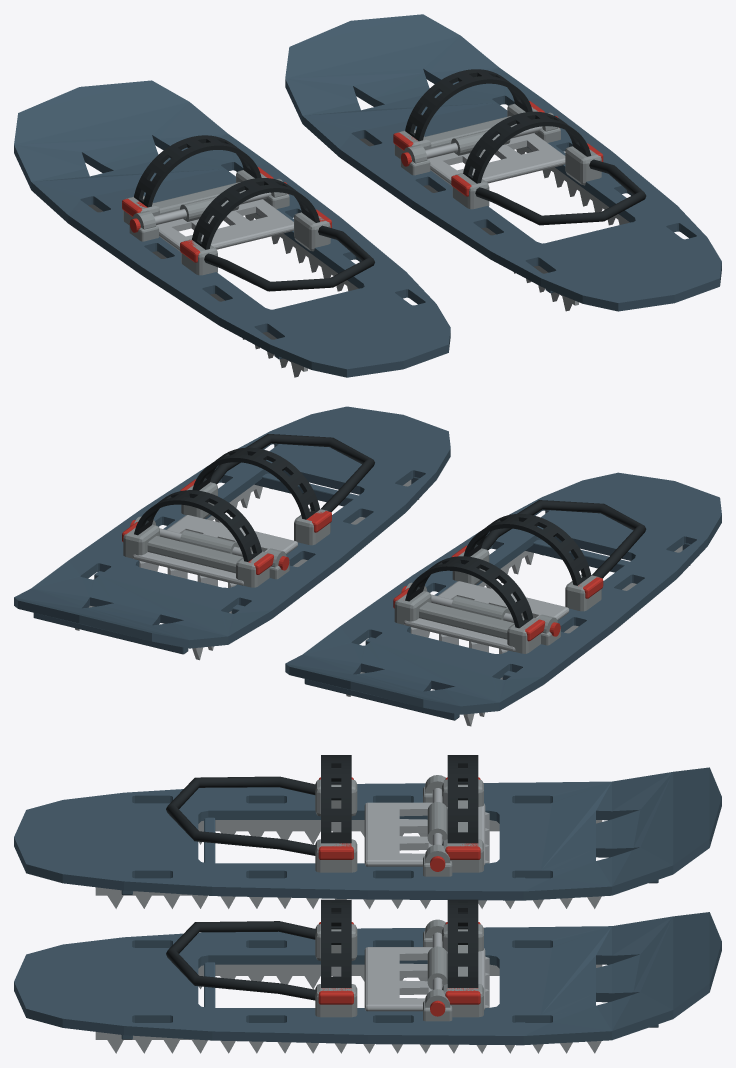
File: A-NEW-20261026-SNOWSHOE-PAIR-001_LOD1_R5.glb
The picture shows the model from 3 angles, top to bottom: view 1: azimuth 30°, elevation 25°; view 2: azimuth 150°, elevation 25°; view 3: azimuth 270°, elevation 25°; orthographic projection. The views are drawn at different scales.
Parts seen in each view (by area): view 1: right deck, left deck, right generic toe crampon plate, left generic toe crampon plate, right perforated instep strap -0.025, left perforated instep strap -0.025, left perforated instep strap 0.075, right perforated instep strap 0.075, left generic heel retention loop, right generic heel retention loop, left underside toothed rail 0.06, right underside toothed rail 0.06 (+6 smaller); view 2: left deck, right deck, left generic toe crampon plate, right generic toe crampon plate, left perforated instep strap 0.075, right perforated instep strap 0.075, right perforated instep strap -0.025, left perforated instep strap -0.025, right generic heel retention loop, left generic heel retention loop, left toe bridge pad, right toe bridge pad (+12 smaller); view 3: left deck, right deck, left generic toe crampon plate, right generic toe crampon plate, left generic heel retention loop, right generic heel retention loop, right perforated instep strap 0.075, left perforated instep strap 0.075, right perforated instep strap -0.025, left perforated instep strap -0.025, right underside toothed rail -0.06, left underside toothed rail -0.06 (+14 smaller).
Boxes of the visible parts, x1=… form: right deck: x1=285, y1=14, x2=721, y2=311; left deck: x1=14, y1=80, x2=450, y2=377; right generic toe crampon plate: x1=428, y1=133, x2=565, y2=185; left generic toe crampon plate: x1=157, y1=199, x2=293, y2=251; right perforated instep strap -0.025: x1=463, y1=111, x2=591, y2=183; left perforated instep strap -0.025: x1=192, y1=178, x2=319, y2=249; left perforated instep strap 0.075: x1=134, y1=135, x2=261, y2=207; right perforated instep strap 0.075: x1=405, y1=69, x2=532, y2=141; left generic heel retention loop: x1=204, y1=225, x2=374, y2=291; right generic heel retention loop: x1=475, y1=159, x2=646, y2=225; left underside toothed rail 0.06: x1=245, y1=213, x2=358, y2=291; right underside toothed rail 0.06: x1=516, y1=146, x2=629, y2=225; left deck: x1=285, y1=472, x2=721, y2=714; right deck: x1=14, y1=406, x2=450, y2=648; left generic toe crampon plate: x1=404, y1=581, x2=569, y2=651; right generic toe crampon plate: x1=132, y1=515, x2=297, y2=585; left perforated instep strap 0.075: x1=405, y1=556, x2=533, y2=628; right perforated instep strap 0.075: x1=134, y1=490, x2=261, y2=561; right perforated instep strap -0.025: x1=192, y1=447, x2=319, y2=519; left perforated instep strap -0.025: x1=463, y1=514, x2=591, y2=585; right generic heel retention loop: x1=210, y1=434, x2=374, y2=512; left generic heel retention loop: x1=481, y1=500, x2=646, y2=578; left toe bridge pad: x1=419, y1=602, x2=513, y2=639; right toe bridge pad: x1=147, y1=536, x2=242, y2=573; left deck: x1=14, y1=767, x2=721, y2=900; right deck: x1=14, y1=912, x2=721, y2=1045; left generic toe crampon plate: x1=364, y1=802, x2=485, y2=866; right generic toe crampon plate: x1=364, y1=947, x2=485, y2=1011; left generic heel retention loop: x1=166, y1=776, x2=316, y2=855; right generic heel retention loop: x1=166, y1=921, x2=316, y2=1000; right perforated instep strap 0.075: x1=447, y1=899, x2=478, y2=987; left perforated instep strap 0.075: x1=447, y1=755, x2=478, y2=843; right perforated instep strap -0.025: x1=321, y1=899, x2=351, y2=987; left perforated instep strap -0.025: x1=321, y1=755, x2=351, y2=843; right underside toothed rail -0.06: x1=198, y1=964, x2=602, y2=989; left underside toothed rail -0.06: x1=198, y1=820, x2=602, y2=844.
Size of the model in its own units: 0.4732 by 0.099 by 0.5588.
